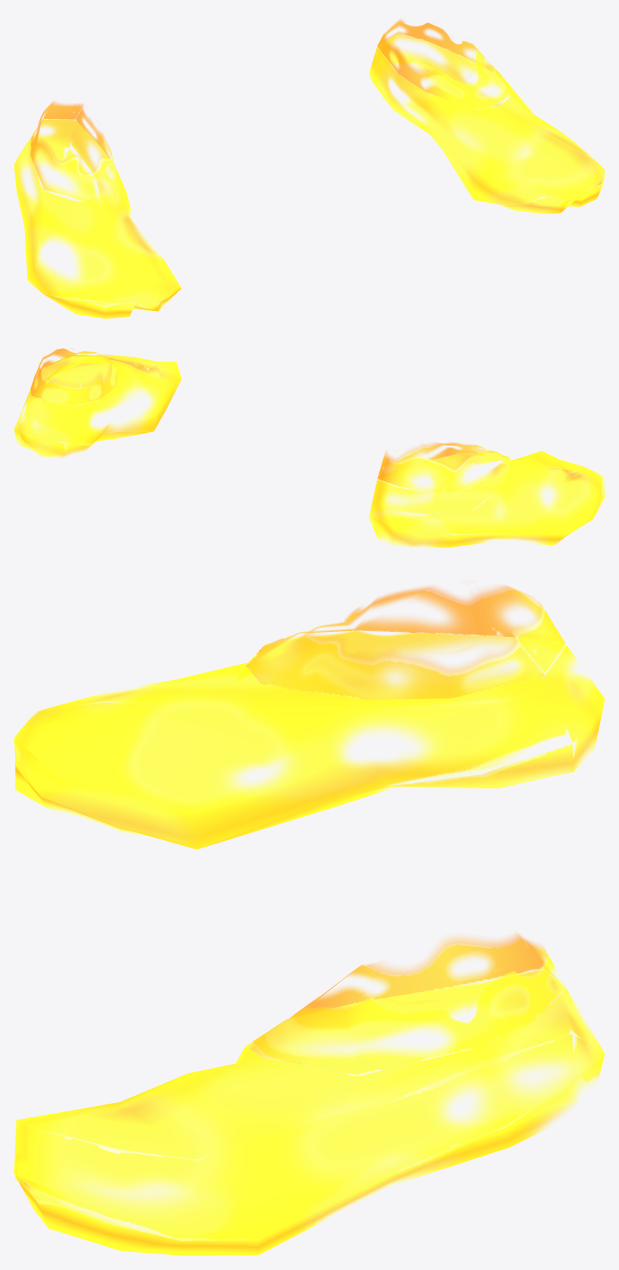
The model's file is boots_slow.gltf.
The picture shows the model from 3 angles, top to bottom: view 1: azimuth 30°, elevation 25°; view 2: azimuth 150°, elevation 25°; view 3: azimuth 270°, elevation 25°; orthographic projection. The views are drawn at different scales.
Parts seen in each view (by area): view 1: Leg_right_slowVFX, Leg_left_slowVFX; view 2: Leg_left_slowVFX, Leg_right_slowVFX; view 3: Leg_right_slowVFX, Leg_left_slowVFX.
Boxes of the visible parts, x1,y1,x2,y2 form: Leg_right_slowVFX: (369,19,604,213); Leg_left_slowVFX: (14,101,181,318); Leg_left_slowVFX: (369,442,604,547); Leg_right_slowVFX: (14,348,181,458); Leg_right_slowVFX: (14,933,604,1255); Leg_left_slowVFX: (14,585,604,849).
Size of the model in its own units: 0.8793 by 0.1991 by 0.4109.
1 material, 1 textured.
